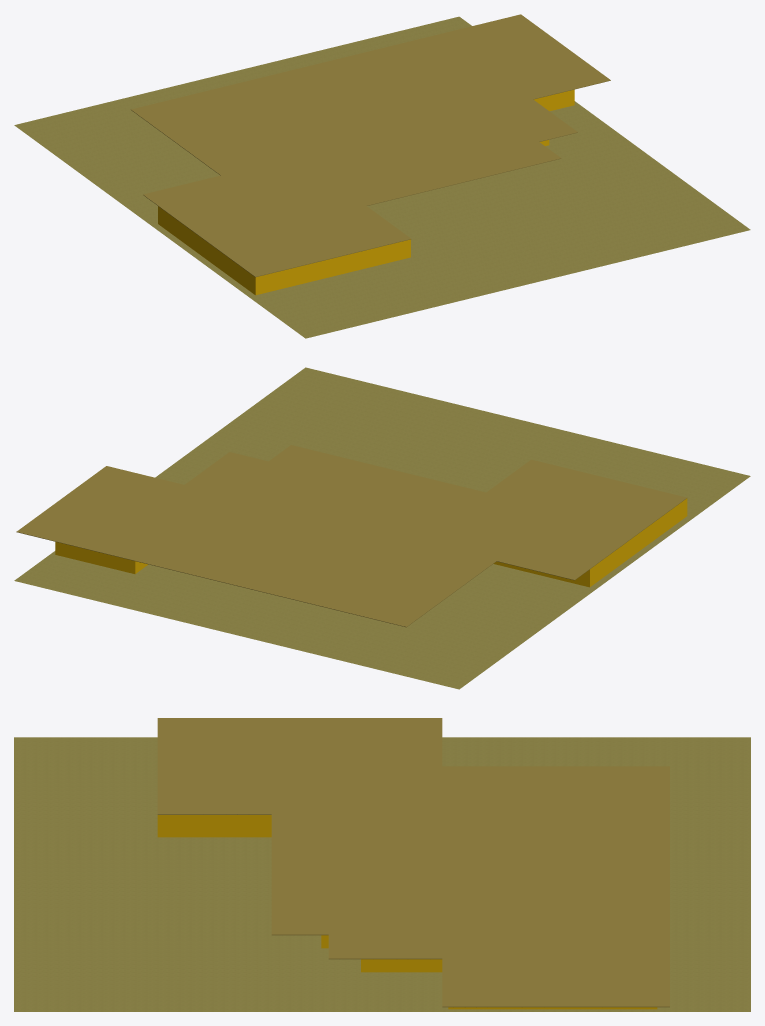
The model's file is dwdwdw.fbx.
The picture shows the model from 3 angles, top to bottom: view 1: azimuth 30°, elevation 25°; view 2: azimuth 150°, elevation 25°; view 3: azimuth 270°, elevation 25°; orthographic projection. The views are drawn at different scales.
Parts seen in each view (by area): view 1: Cube.114, Plane, Cube.045, Cube.044; view 2: Cube.114, Plane, Cube.044, Cube.016; view 3: Cube.114, Plane, Cube.040, Cube.009, Cube.013.
Part boxes in pixels (x1,y1,x2,y2): Cube.114: (130, 14, 610, 277); Plane: (14, 16, 750, 338); Cube.045: (253, 239, 410, 295); Cube.044: (158, 206, 253, 293); Cube.114: (16, 445, 686, 627); Plane: (14, 367, 750, 689); Cube.044: (585, 500, 684, 587); Cube.016: (55, 542, 137, 573); Cube.114: (157, 718, 669, 1007); Plane: (14, 737, 750, 1011); Cube.040: (163, 815, 271, 837); Cube.009: (361, 959, 442, 972); Cube.013: (448, 1007, 651, 1009).
Bounding box in the file's own units: 11030 × 409 × 11731.
